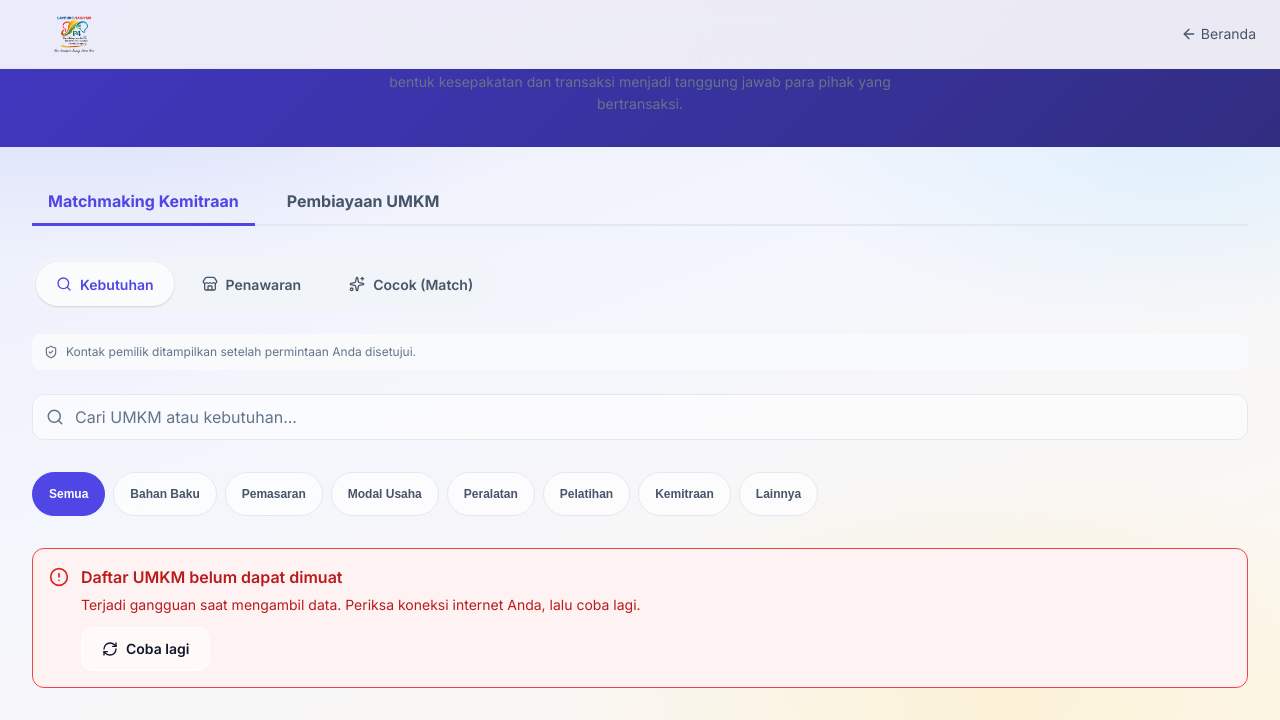
UMKM publik: pemuatan listing/match (T6) › "Coba lagi" memuat ulang listing dan menampilkan hasilnya
(page scrolled)
Click the button "Coba lagi". click: click(146, 649)
box: [81, 627, 210, 671]
(page scrolled)
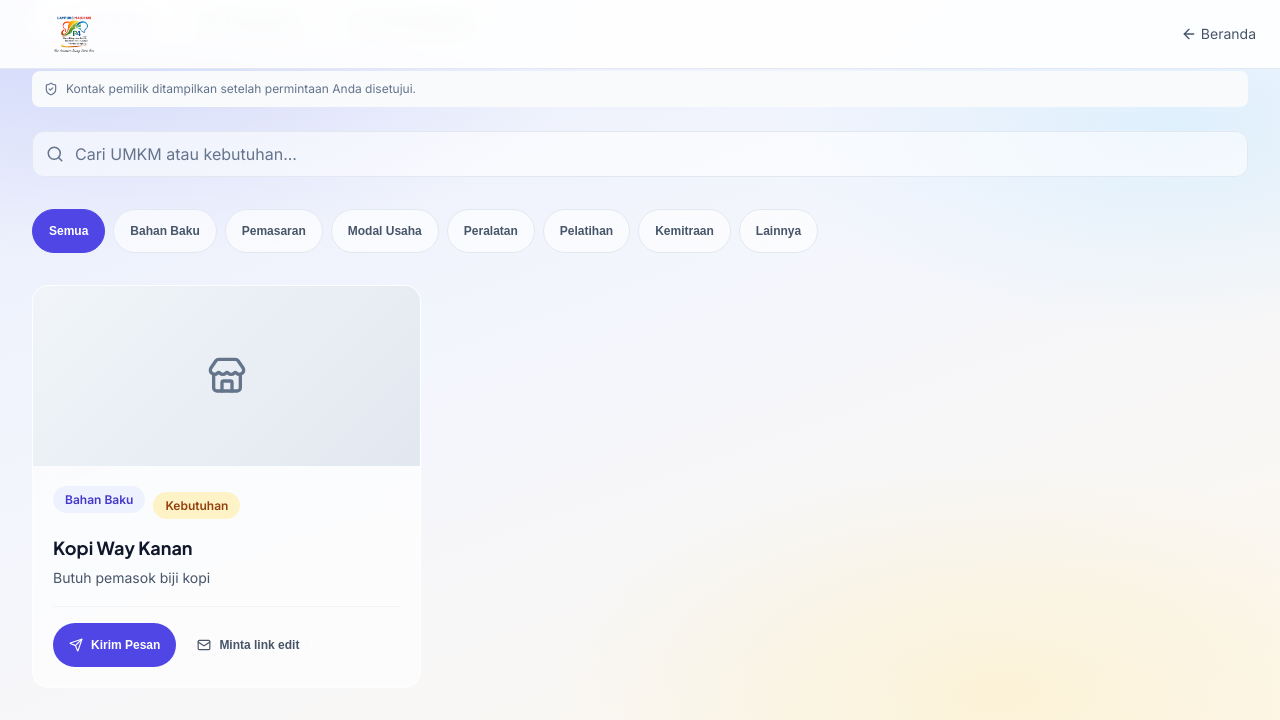
Now the heading "Kopi Way Kanan" is shown, box [53, 536, 192, 559]
Now the message is gone
